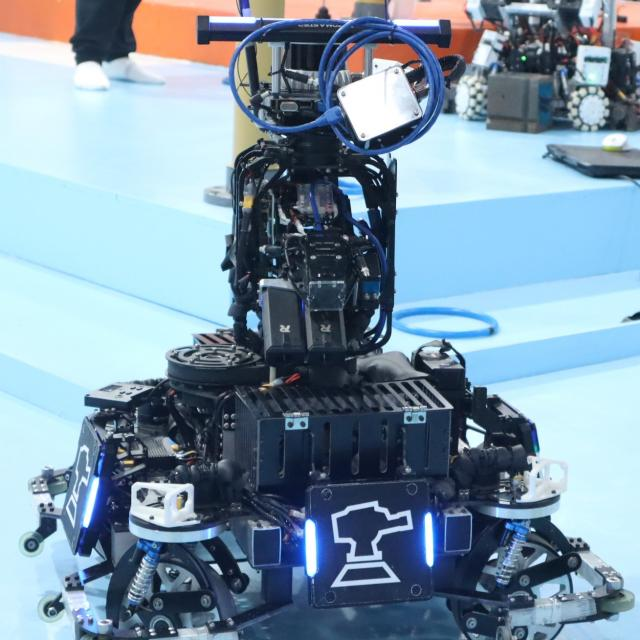Bs: (302, 493, 438, 594), (60, 429, 103, 538)
